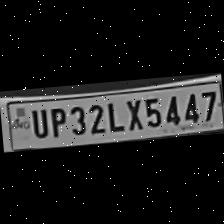2: (84, 98, 106, 134)
3: (65, 100, 86, 136)
4: (160, 90, 182, 126), (178, 89, 200, 124)
5: (139, 92, 163, 129)
7: (196, 86, 218, 122)
L: (103, 96, 125, 134)
P: (44, 102, 67, 138)
U: (26, 104, 48, 139)
X: (120, 94, 144, 132)
